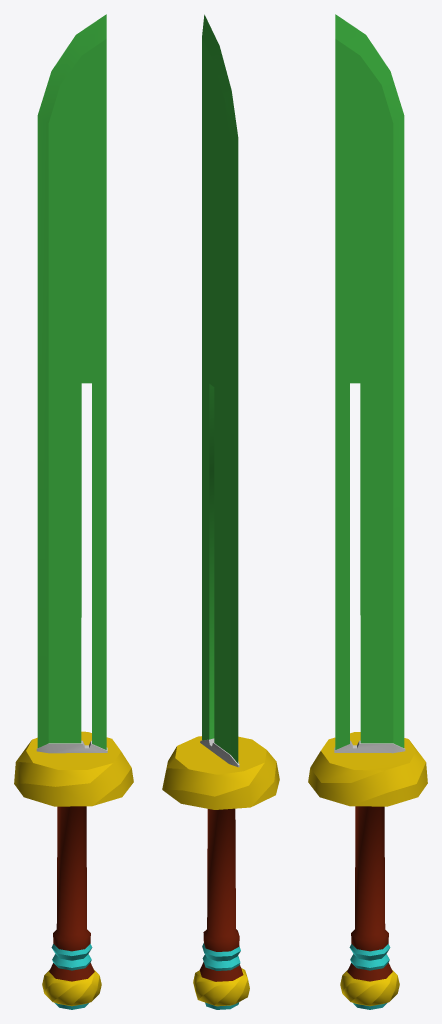
The model's file is Sword4 Rust MultiMaterial.fbx.
The picture shows the model from 3 angles, left to right: view 1: azimuth 90°, elevation 25°; view 2: azimuth 210°, elevation 25°; view 3: azimuth 270°, elevation 25°; orthographic projection.
Visible parts, largest first — view 1: Sword4 Rust MultiMaterial; view 2: Sword4 Rust MultiMaterial; view 3: Sword4 Rust MultiMaterial.
Boxes of the visible parts, x1=… form: Sword4 Rust MultiMaterial: x1=14, y1=14, x2=133, y2=1009; Sword4 Rust MultiMaterial: x1=162, y1=14, x2=279, y2=1009; Sword4 Rust MultiMaterial: x1=308, y1=14, x2=427, y2=1009.
Bounding box in the file's own units: 84.33 × 794 × 87.28.
